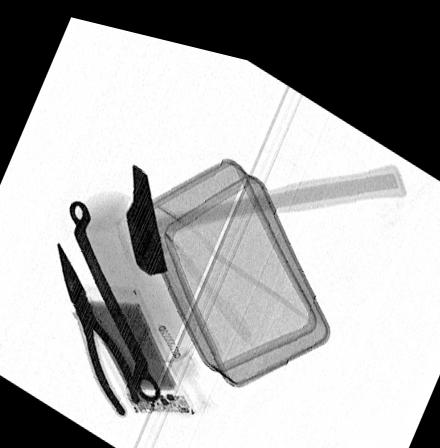Hammer: (125, 143, 406, 269)
Pliers: (56, 237, 143, 411)
Powerbank: (72, 280, 196, 404)
Wrench: (67, 195, 160, 397)
